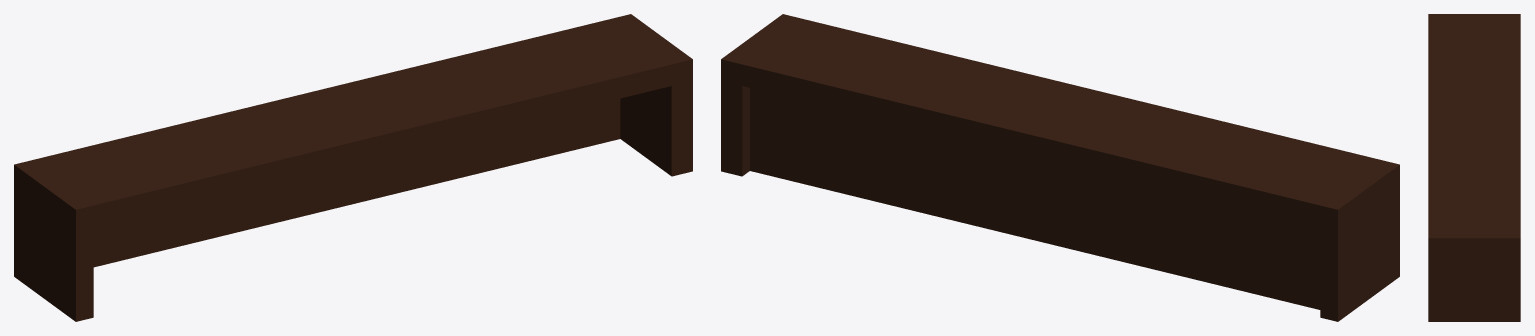
The model's file is MesonV2.fbx.
The picture shows the model from 3 angles, left to right: view 1: azimuth 30°, elevation 25°; view 2: azimuth 150°, elevation 25°; view 3: azimuth 270°, elevation 25°; orthographic projection. The views are drawn at different scales.
Parts seen in each view (by area): view 1: Cubo; view 2: Cubo; view 3: Cubo.
Boxes of the visible parts, left/top/right/bottom form: Cubo: left=14, top=14, right=692, bottom=321; Cubo: left=721, top=14, right=1399, bottom=321; Cubo: left=1428, top=14, right=1520, bottom=321.
Bounding box in the file's own units: 1152 × 200 × 200.
